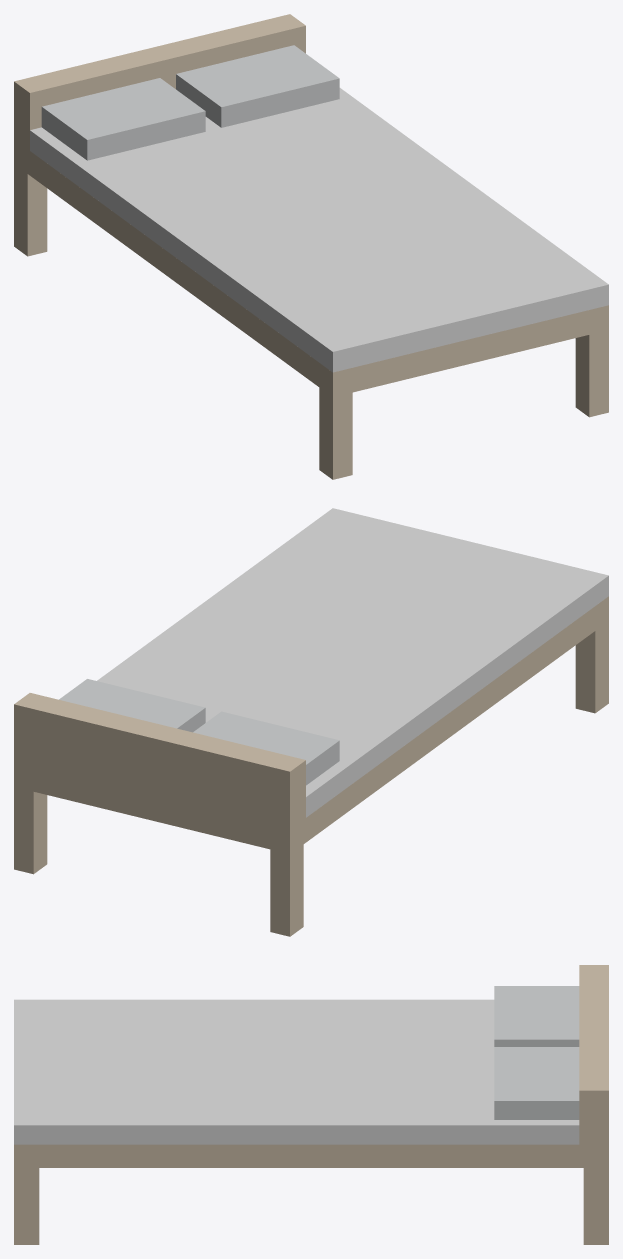
File: Bed.glb
3 views of the same model, one above another, from view 1: azimuth 30°, elevation 25°; view 2: azimuth 150°, elevation 25°; view 3: azimuth 270°, elevation 25° (orthographic). The views are drawn at different scales.
Visible parts, largest first — view 1: Mesh_Mesh_head_geo.001_lambert2SG.001; view 2: Mesh_Mesh_head_geo.001_lambert2SG.001; view 3: Mesh_Mesh_head_geo.001_lambert2SG.001.
Boxes of the visible parts, x1,y1,x2,y2 form: Mesh_Mesh_head_geo.001_lambert2SG.001: [14, 14, 608, 479]; Mesh_Mesh_head_geo.001_lambert2SG.001: [14, 508, 608, 936]; Mesh_Mesh_head_geo.001_lambert2SG.001: [14, 965, 608, 1244].
Bounding box in the file's own units: 70 × 40 × 140.
